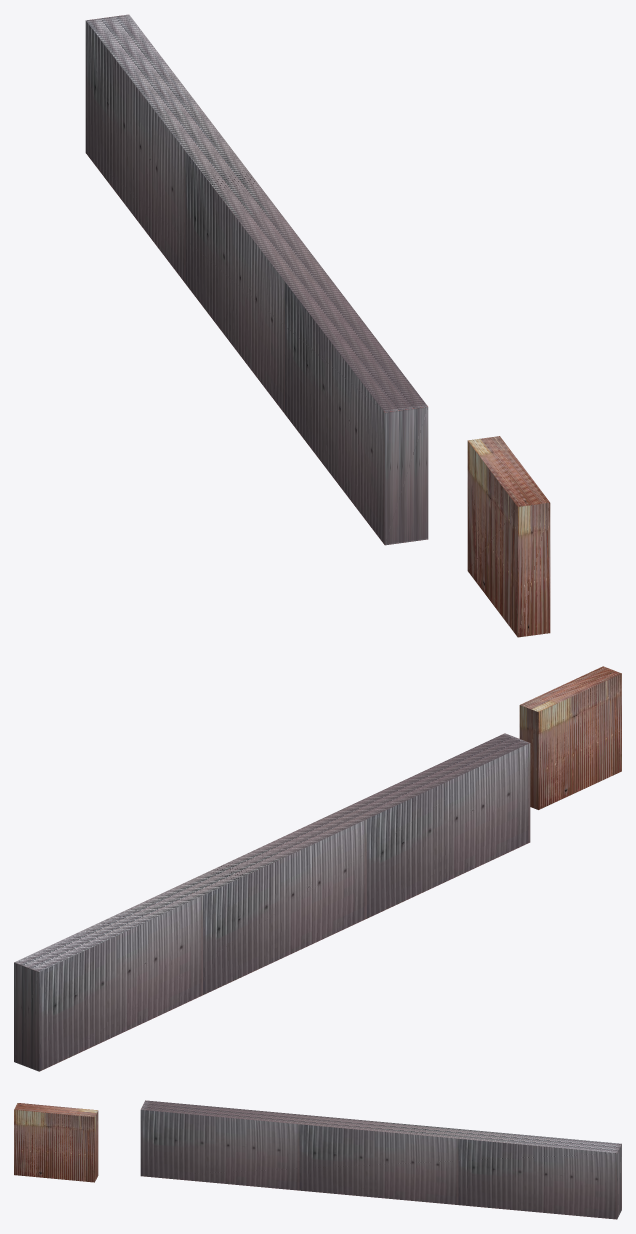
Rendered from wall2.FBX.
3 renders of one model, top to bottom at view 1: azimuth 30°, elevation 25°; view 2: azimuth 150°, elevation 25°; view 3: azimuth 270°, elevation 25°, orthographic. The views are drawn at different scales.
Visible parts, largest first — view 1: Box001, Box002; view 2: Box001, Box002; view 3: Box001, Box002.
Boxes of the visible parts, x1,y1,x2,y2 form: Box001: [85, 14, 428, 545]; Box002: [467, 436, 550, 637]; Box001: [14, 733, 530, 1071]; Box002: [519, 666, 621, 809]; Box001: [140, 1100, 621, 1219]; Box002: [14, 1103, 98, 1182].
Bounding box in the file's own units: 2069 × 10072 × 1213.
